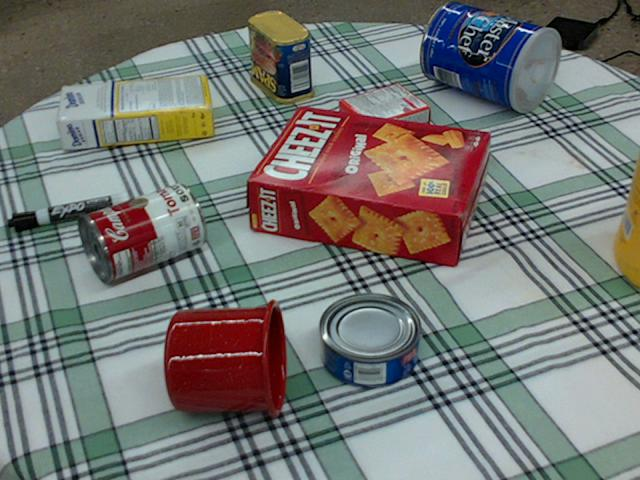cracker_box: (247, 104, 490, 264)
gelatin_box: (336, 79, 429, 145)
large_marker: (6, 192, 128, 231)
master_chef_can: (419, 2, 559, 111)
mug: (162, 295, 287, 415)
mustard_bottle: (613, 147, 639, 285)
potted_meat_can: (247, 10, 314, 103)
sugar_box: (57, 75, 213, 148)
tomato_soup_can: (77, 181, 205, 282)
tuna_fish_can: (318, 292, 421, 388)
